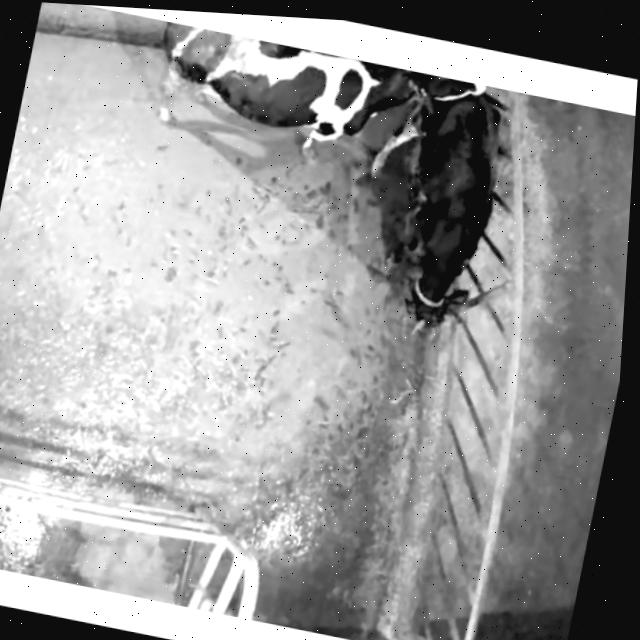propping: (336, 58, 512, 155)
